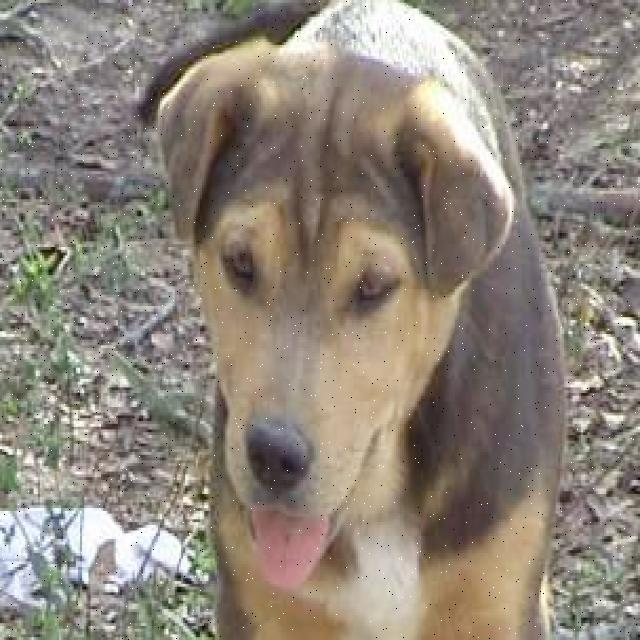Dog: (170, 32, 516, 588)
